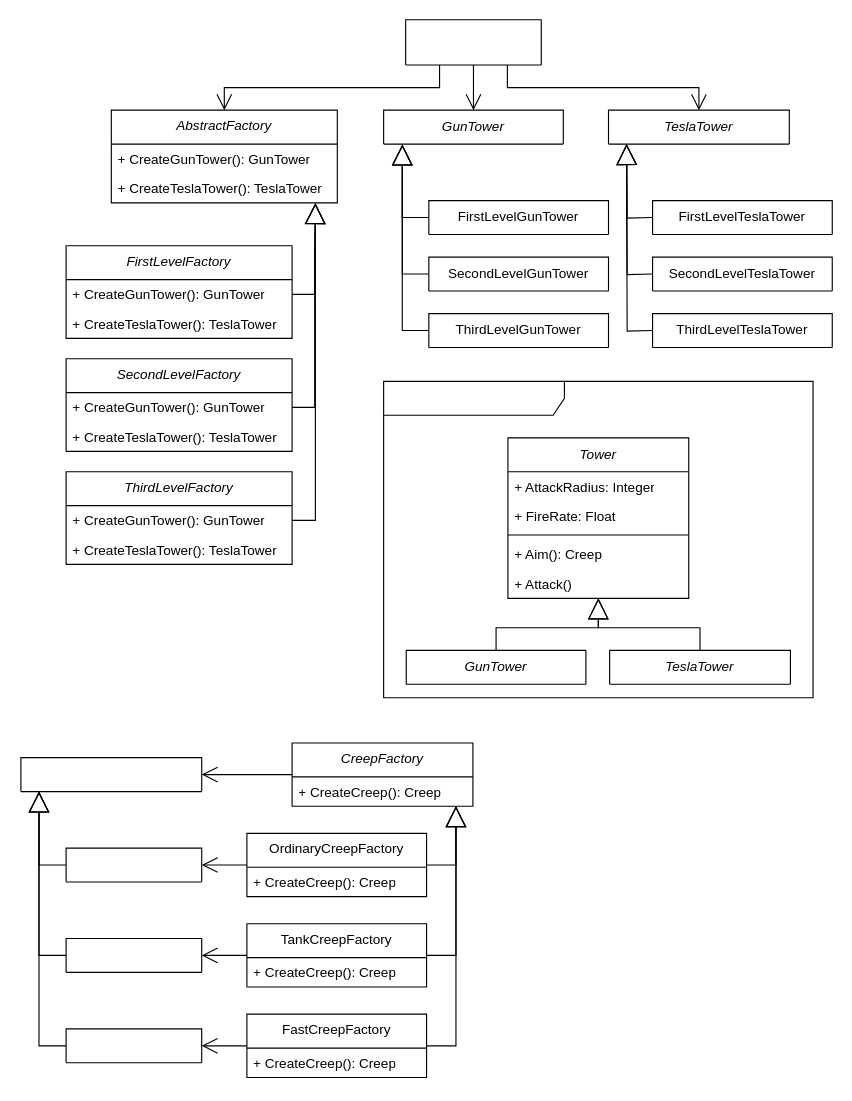
This 852x1101 diagram has some shape labels left out. Each missing label, with the centre of its shape:
"cd Tower Inheritance" belongs at point 598,539.
"Creep" belongs at point 111,774.
"FastCreep" belongs at point 133,1045.
"Game" belongs at point 473,42.
"OrdinaryCreep" belongs at point 133,864.
"TankCreep" belongs at point 133,954.
